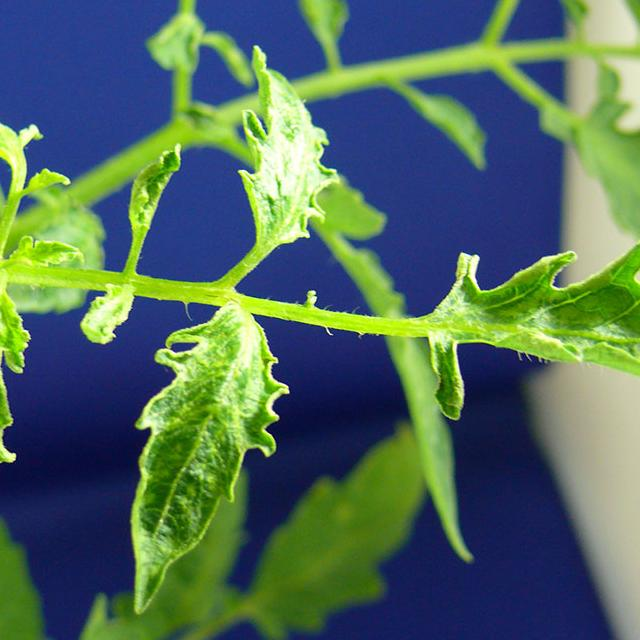Tomato leaf mosaic virus: (98, 301, 306, 623), (399, 254, 640, 411), (227, 36, 348, 256), (0, 277, 65, 520)
